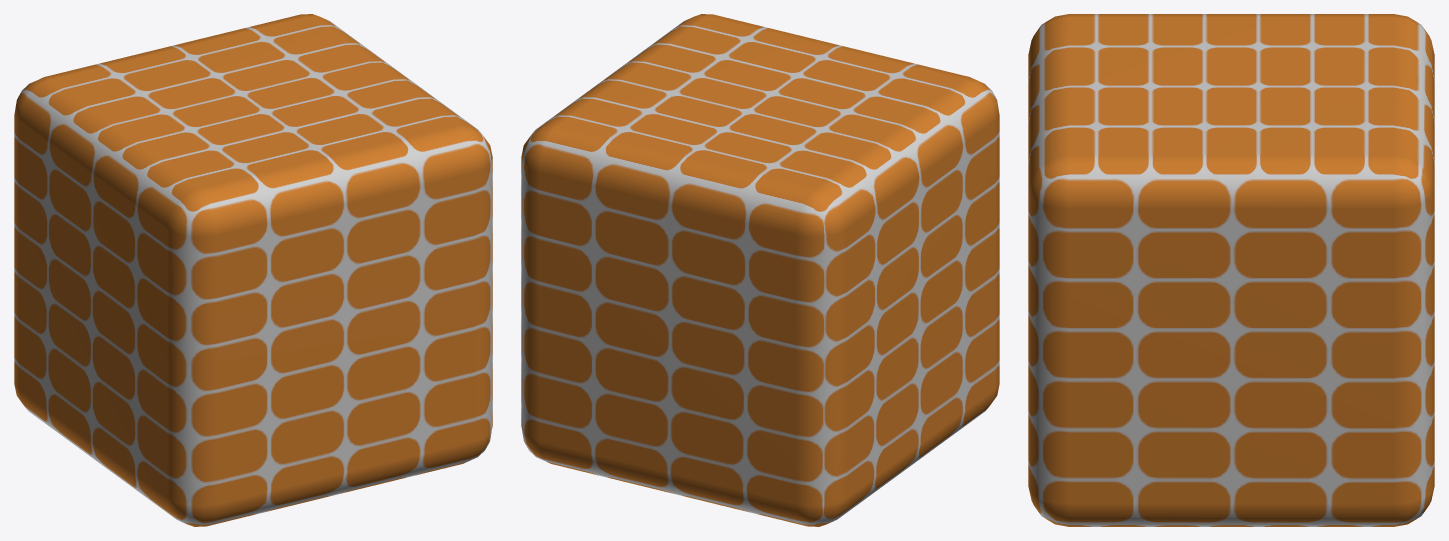
Rendered from Wall_Break.fbx.
3 renders of one model, left to right at view 1: azimuth 30°, elevation 25°; view 2: azimuth 150°, elevation 25°; view 3: azimuth 270°, elevation 25°, orthographic. The views are drawn at different scales.
Visible parts, largest first — view 1: Wall_Break; view 2: Wall_Break; view 3: Wall_Break.
Boxes of the visible parts, box(x1,y1,x2,y2) form: Wall_Break: box(14, 14, 492, 526); Wall_Break: box(521, 14, 999, 526); Wall_Break: box(1028, 14, 1434, 526).
Size of the model in its own units: 100 by 100 by 100.
